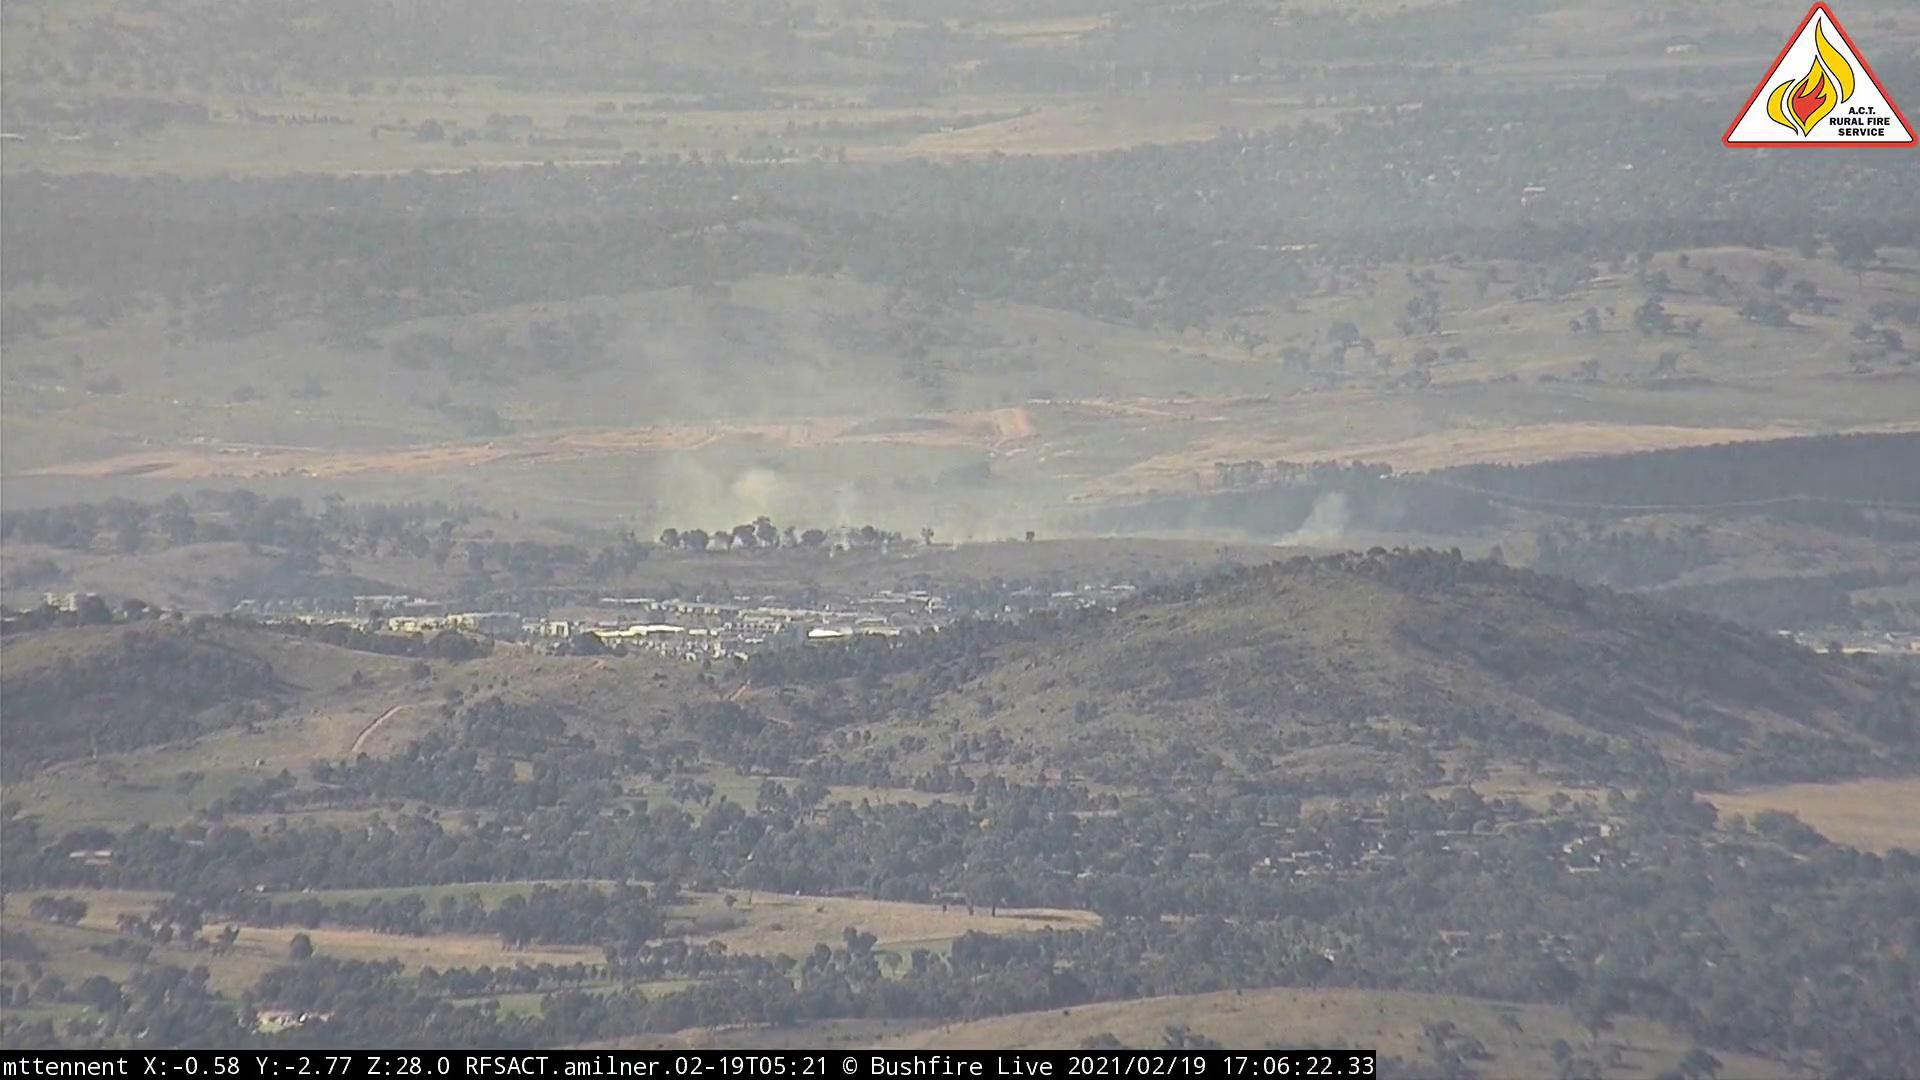instance_salient_object: (644, 328, 1065, 555), (1267, 473, 1375, 546)
